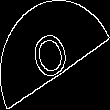O_SE: (30, 22, 80, 88)
